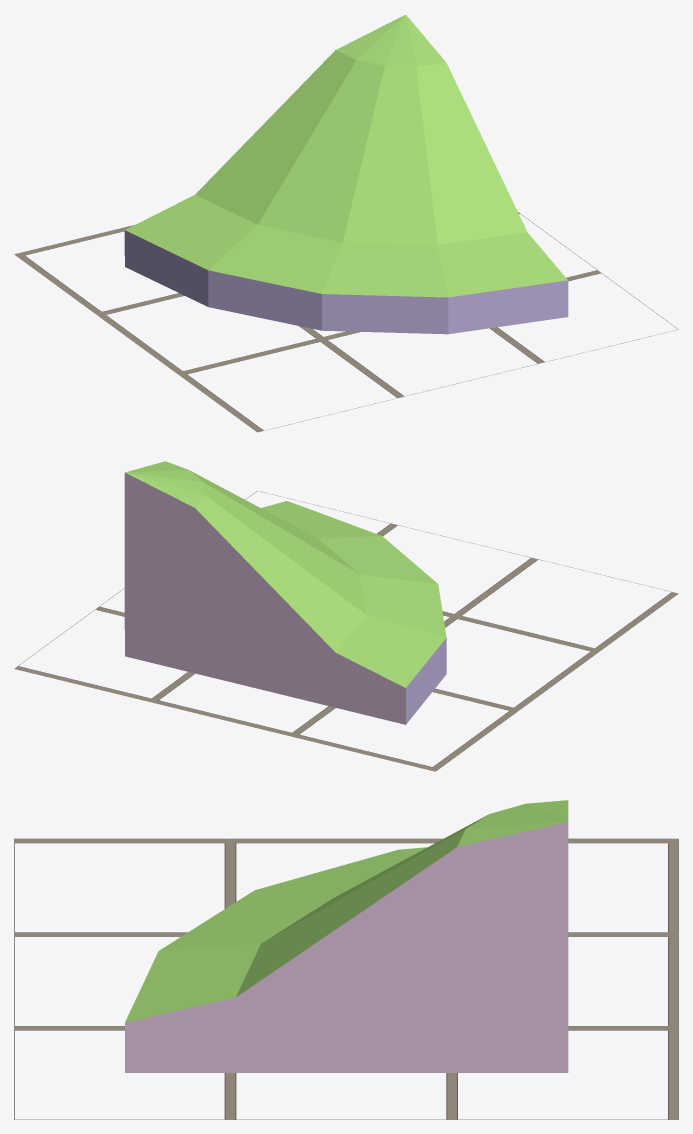
The model's file is Grass_Hill_Sharp_Curve_Outer_2x2.glb.
The picture shows the model from 3 angles, top to bottom: view 1: azimuth 30°, elevation 25°; view 2: azimuth 150°, elevation 25°; view 3: azimuth 270°, elevation 25°; orthographic projection. The views are drawn at different scales.
Parts seen in each view (by area): view 1: Grass_Hill_Sharp_Curve_Outer_2x2, Floor; view 2: Grass_Hill_Sharp_Curve_Outer_2x2, Floor; view 3: Grass_Hill_Sharp_Curve_Outer_2x2, Floor.
Part boxes in pixels (x1,y1,x2,y2): Grass_Hill_Sharp_Curve_Outer_2x2: [124, 14, 568, 334]; Floor: [14, 212, 678, 432]; Grass_Hill_Sharp_Curve_Outer_2x2: [124, 461, 446, 724]; Floor: [14, 491, 678, 771]; Grass_Hill_Sharp_Curve_Outer_2x2: [125, 800, 568, 1072]; Floor: [14, 838, 678, 1119].
Bounding box in the file's own units: 300 × 125 × 300.
5 materials, 1 textured.
